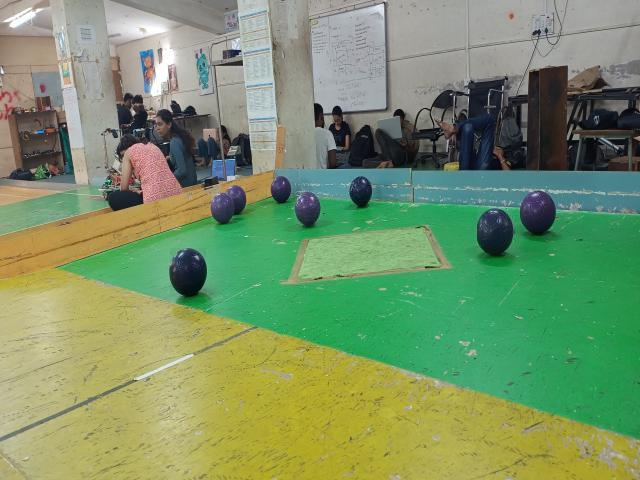jambhalya: (520, 190, 556, 235), (295, 191, 321, 226), (211, 194, 234, 223), (226, 185, 246, 215), (272, 177, 291, 203)
kaalyya: (170, 248, 206, 297), (477, 208, 514, 255), (349, 176, 372, 206)
